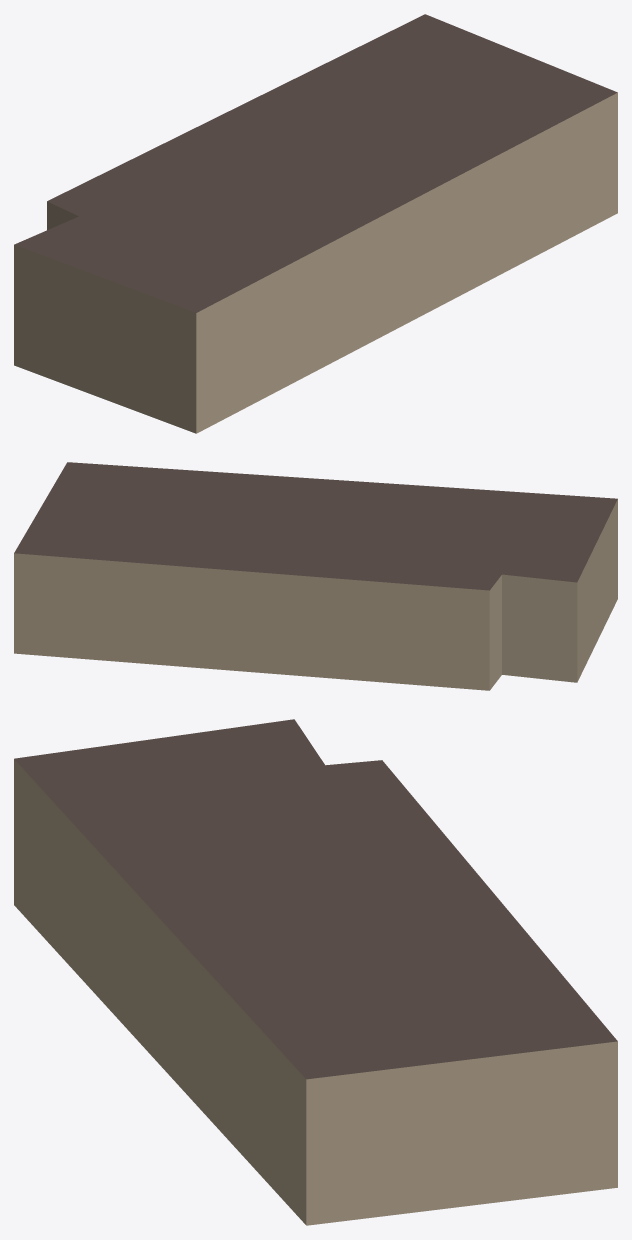
3 renders of one model, top to bottom at view 1: azimuth 30°, elevation 25°; view 2: azimuth 150°, elevation 25°; view 3: azimuth 270°, elevation 25°, orthographic. The views are drawn at different scales.
Visible parts, largest first — view 1: HP-w1512800287; view 2: HP-w1512800287; view 3: HP-w1512800287.
Part boxes in pixels (bbox=[...]): HP-w1512800287: bbox=[14, 14, 617, 433]; HP-w1512800287: bbox=[14, 462, 617, 690]; HP-w1512800287: bbox=[14, 719, 617, 1225].
Bounding box in the file's own units: 47.5 × 9 × 33.66.
